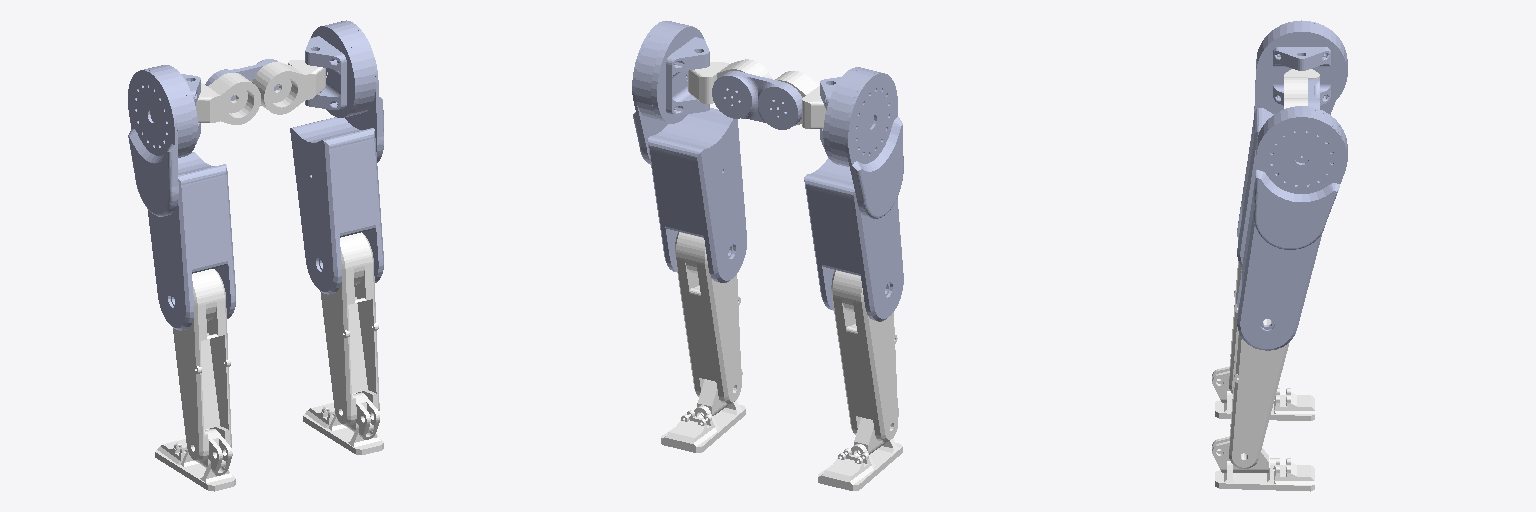
robot.urdf — platform-1-urdf:
<?xml version="1.0" encoding="utf-8"?>
<!-- This URDF was automatically created by SolidWorks to URDF Exporter! Originally created by [author] ([email redacted]) 
     Commit Version: 1.6.0-4-g7f85cfe  Build Version: 1.6.7995.38578
     For more information, please see http://wiki.ros.org/sw_urdf_exporter -->
<robot
  name="platform-1-urdf">
  <link
    name="base_link">
    <inertial>
      <origin
        xyz="1.87366287072413E-14 -0.00179506416880645 8.82598080998461E-06"
        rpy="0 0 0" />
      <mass
        value="0.172076781446164" />
      <inertia
        ixx="6.56966250127203E-05"
        ixy="-9.05222247925222E-21"
        ixz="-2.7655394126859E-10"
        iyy="0.000351145645808481"
        iyz="2.8099130371103E-14"
        izz="0.000296660273404923" />
    </inertial>
    <visual>
      <origin
        xyz="0 0 0"
        rpy="0 0 0" />
      <geometry>
        <mesh
          filename="package://platform-1-urdf/meshes/base_link.STL" />
      </geometry>
      <material
        name="">
        <color
          rgba="0.792156862745098 0.819607843137255 0.933333333333333 1" />
      </material>
    </visual>
    <collision>
      <origin
        xyz="0 0 0"
        rpy="0 0 0" />
      <geometry>
        <mesh
          filename="package://platform-1-urdf/meshes/base_link.STL" />
      </geometry>
    </collision>
  </link>
  <link
    name="right_hip_link">
    <inertial>
      <origin
        xyz="0.0312338500467596 -0.0269557851011357 8.81825816659884E-06"
        rpy="0 0 0" />
      <mass
        value="0.218746942434887" />
      <inertia
        ixx="0.000111242223188787"
        ixy="-3.50040811249981E-05"
        ixz="-3.44206099539943E-12"
        iyy="0.000322873601680704"
        iyz="3.92851149076219E-12"
        izz="0.000298130301089545" />
    </inertial>
    <visual>
      <origin
        xyz="0 0 0"
        rpy="0 0 0" />
      <geometry>
        <mesh
          filename="package://platform-1-urdf/meshes/right_hip_link.STL" />
      </geometry>
      <material
        name="">
        <color
          rgba="1 1 1 1" />
      </material>
    </visual>
    <collision>
      <origin
        xyz="0 0 0"
        rpy="0 0 0" />
      <geometry>
        <mesh
          filename="package://platform-1-urdf/meshes/right_hip_link.STL" />
      </geometry>
    </collision>
  </link>
  <joint
    name="Right Hip Joint"
    type="revolute">
    <origin
      xyz="0.04 0 0"
      rpy="0 0 0" />
    <parent
      link="base_link" />
    <child
      link="right_hip_link" />
    <axis
      xyz="0 1 0" />
    <limit
      lower="-1.57"
      upper="1.57"
      effort="25"
      velocity="100" />
  </joint>
  <link
    name="right_hip_swivel_link">
    <inertial>
      <origin
        xyz="0.026179011420427 7.75421393761633E-15 8.79190997261723E-06"
        rpy="0 0 0" />
      <mass
        value="0.347515284060988" />
      <inertia
        ixx="0.000760222748845959"
        ixy="-4.71970967575616E-16"
        ixz="2.00616432300055E-11"
        iyy="0.00043778973434596"
        iyz="-6.43254312041269E-11"
        izz="0.000366171194309917" />
    </inertial>
    <visual>
      <origin
        xyz="0 0 0"
        rpy="0 0 0" />
      <geometry>
        <mesh
          filename="package://platform-1-urdf/meshes/right_hip_swivel_link.STL" />
      </geometry>
      <material
        name="">
        <color
          rgba="0.792156862745098 0.819607843137255 0.933333333333333 1" />
      </material>
    </visual>
    <collision>
      <origin
        xyz="0 0 0"
        rpy="0 0 0" />
      <geometry>
        <mesh
          filename="package://platform-1-urdf/meshes/right_hip_swivel_link.STL" />
      </geometry>
    </collision>
  </link>
  <joint
    name="Right Hip Swivel Joint"
    type="revolute">
    <origin
      xyz="0.074427 -0.02134 0"
      rpy="0 0 0" />
    <parent
      link="right_hip_link" />
    <child
      link="right_hip_swivel_link" />
    <axis
      xyz="0 0 -1" />
    <limit
      lower="-1.57"
      upper="1.57"
      effort="25"
      velocity="100" />
  </joint>
  <link
    name="right_upper_leg_link">
    <inertial>
      <origin
        xyz="0.0348402920137008 -0.0263553666400808 -0.141434689298884"
        rpy="0 0 0" />
      <mass
        value="1.56276271190185" />
      <inertia
        ixx="0.00874757897418537"
        ixy="-7.02435999358329E-05"
        ixz="-0.000376977227239328"
        iyy="0.00677819253597887"
        iyz="-0.000753330087848866"
        izz="0.00287562590565611" />
    </inertial>
    <visual>
      <origin
        xyz="0 0 0"
        rpy="0 0 0" />
      <geometry>
        <mesh
          filename="package://platform-1-urdf/meshes/right_upper_leg_link.STL" />
      </geometry>
      <material
        name="">
        <color
          rgba="0.792156862745098 0.819607843137255 0.933333333333333 1" />
      </material>
    </visual>
    <collision>
      <origin
        xyz="0 0 0"
        rpy="0 0 0" />
      <geometry>
        <mesh
          filename="package://platform-1-urdf/meshes/right_upper_leg_link.STL" />
      </geometry>
    </collision>
  </link>
  <joint
    name="Right Upper Leg Joint"
    type="revolute">
    <origin
      xyz="0 0 0"
      rpy="0 0 0" />
    <parent
      link="right_hip_swivel_link" />
    <child
      link="right_upper_leg_link" />
    <axis
      xyz="1 0 0" />
    <limit
      lower="-1.57"
      upper="1.57"
      effort="25"
      velocity="100" />
  </joint>
  <link
    name="right_lower_leg_link">
    <inertial>
      <origin
        xyz="0.0220000000782792 0.00456596345783578 -0.0813370922335395"
        rpy="0 0 0" />
      <mass
        value="0.848373595704519" />
      <inertia
        ixx="0.00672506155795486"
        ixy="2.30279220574956E-12"
        ixz="2.42591504272229E-12"
        iyy="0.00664011713487416"
        iyz="0.000212673883646662"
        izz="0.000706215505123794" />
    </inertial>
    <visual>
      <origin
        xyz="0 0 0"
        rpy="0 0 0" />
      <geometry>
        <mesh
          filename="package://platform-1-urdf/meshes/right_lower_leg_link.STL" />
      </geometry>
      <material
        name="">
        <color
          rgba="1 1 1 1" />
      </material>
    </visual>
    <collision>
      <origin
        xyz="0 0 0"
        rpy="0 0 0" />
      <geometry>
        <mesh
          filename="package://platform-1-urdf/meshes/right_lower_leg_link.STL" />
      </geometry>
    </collision>
  </link>
  <joint
    name="Right Lower Leg Joint"
    type="revolute">
    <origin
      xyz="0 -0.056414 -0.30275"
      rpy="-0.15372 0 0" />
    <parent
      link="right_upper_leg_link" />
    <child
      link="right_lower_leg_link" />
    <axis
      xyz="-1 0 0" />
    <limit
      lower="-1.57"
      upper="1.57"
      effort="25"
      velocity="100" />
  </joint>
  <link
    name="right_ankle_link">
    <inertial>
      <origin
        xyz="0.0125000293285679 -0.00246190454829391 -0.010269641525856"
        rpy="0 0 0" />
      <mass
        value="0.0868207809581255" />
      <inertia
        ixx="6.58227966480361E-05"
        ixy="7.66796652557329E-11"
        ixz="3.06082970006109E-11"
        iyy="2.79658938559025E-05"
        iyz="5.7212834484298E-06"
        izz="4.77582065457539E-05" />
    </inertial>
    <visual>
      <origin
        xyz="0 0 0"
        rpy="0 0 0" />
      <geometry>
        <mesh
          filename="package://platform-1-urdf/meshes/right_ankle_link.STL" />
      </geometry>
      <material
        name="">
        <color
          rgba="1 1 1 1" />
      </material>
    </visual>
    <collision>
      <origin
        xyz="0 0 0"
        rpy="0 0 0" />
      <geometry>
        <mesh
          filename="package://platform-1-urdf/meshes/right_ankle_link.STL" />
      </geometry>
    </collision>
  </link>
  <joint
    name="Right Ankle"
    type="revolute">
    <origin
      xyz="0.0095 0 -0.25"
      rpy="0.15372 0 0" />
    <parent
      link="right_lower_leg_link" />
    <child
      link="right_ankle_link" />
    <axis
      xyz="-1 0 0" />
    <limit
      lower="-1.57"
      upper="1.57"
      effort="25"
      velocity="100" />
  </joint>
  <link
    name="right_foot">
    <inertial>
      <origin
        xyz="1.86822849648771E-06 0.0457950081163243 -0.0200724464504474"
        rpy="0 0 0" />
      <mass
        value="0.162517837389381" />
      <inertia
        ixx="0.000346865868444993"
        ixy="-8.62701734003375E-09"
        ixz="6.78704090410348E-09"
        iyy="5.41447950521625E-05"
        iyz="-3.90032892638468E-06"
        izz="0.000380328012813706" />
    </inertial>
    <visual>
      <origin
        xyz="0 0 0"
        rpy="0 0 0" />
      <geometry>
        <mesh
          filename="package://platform-1-urdf/meshes/right_foot.STL" />
      </geometry>
      <material
        name="">
        <color
          rgba="1 1 1 1" />
      </material>
    </visual>
    <collision>
      <origin
        xyz="0 0 0"
        rpy="0 0 0" />
      <geometry>
        <mesh
          filename="package://platform-1-urdf/meshes/right_foot.STL" />
      </geometry>
    </collision>
  </link>
  <joint
    name="Right Foot"
    type="revolute">
    <origin
      xyz="0.0125 0 -0.03"
      rpy="0 0 0" />
    <parent
      link="right_ankle_link" />
    <child
      link="right_foot" />
    <axis
      xyz="0 1 0" />
    <limit
      lower="-3.14"
      upper="3.14"
      effort="25"
      velocity="100" />
  </joint>
  <link
    name="left_hip_link">
    <inertial>
      <origin
        xyz="-0.0312338500445707 -0.0269557851035351 8.83381273877186E-06"
        rpy="0 0 0" />
      <mass
        value="0.218746942434901" />
      <inertia
        ixx="0.000111242188532273"
        ixy="3.50041183445646E-05"
        ixz="-3.43060020629386E-12"
        iyy="0.000322873670433245"
        iyz="-3.94137140927574E-12"
        izz="0.000298130537004761" />
    </inertial>
    <visual>
      <origin
        xyz="0 0 0"
        rpy="0 0 0" />
      <geometry>
        <mesh
          filename="package://platform-1-urdf/meshes/left_hip_link.STL" />
      </geometry>
      <material
        name="">
        <color
          rgba="1 1 1 1" />
      </material>
    </visual>
    <collision>
      <origin
        xyz="0 0 0"
        rpy="0 0 0" />
      <geometry>
        <mesh
          filename="package://platform-1-urdf/meshes/left_hip_link.STL" />
      </geometry>
    </collision>
  </link>
  <joint
    name="Left Hip Joint"
    type="revolute">
    <origin
      xyz="-0.04 0 0"
      rpy="0 0 0" />
    <parent
      link="base_link" />
    <child
      link="left_hip_link" />
    <axis
      xyz="0 1 0" />
    <limit
      lower="-1.57"
      upper="1.57"
      effort="25"
      velocity="100" />
  </joint>
  <link
    name="left_hip_swivel_link">
    <inertial>
      <origin
        xyz="-0.026179011420427 -7.77850006628E-15 8.79199407935082E-06"
        rpy="0 0 0" />
      <mass
        value="0.347515284060989" />
      <inertia
        ixx="0.000760222748845962"
        ixy="-4.7192236305285E-16"
        ixz="-2.00617297058978E-11"
        iyy="0.000437789734345962"
        iyz="6.43254311745432E-11"
        izz="0.000366171194309919" />
    </inertial>
    <visual>
      <origin
        xyz="0 0 0"
        rpy="0 0 0" />
      <geometry>
        <mesh
          filename="package://platform-1-urdf/meshes/left_hip_swivel_link.STL" />
      </geometry>
      <material
        name="">
        <color
          rgba="0.792156862745098 0.819607843137255 0.933333333333333 1" />
      </material>
    </visual>
    <collision>
      <origin
        xyz="0 0 0"
        rpy="0 0 0" />
      <geometry>
        <mesh
          filename="package://platform-1-urdf/meshes/left_hip_swivel_link.STL" />
      </geometry>
    </collision>
  </link>
  <joint
    name="Left Hip Swivel Joint"
    type="revolute">
    <origin
      xyz="-0.074427 -0.02134 0"
      rpy="0 0 0" />
    <parent
      link="left_hip_link" />
    <child
      link="left_hip_swivel_link" />
    <axis
      xyz="0 0 -1" />
    <limit
      lower="-1.57"
      upper="1.57"
      effort="25"
      velocity="100" />
  </joint>
  <link
    name="left_upper_leg_link">
    <inertial>
      <origin
        xyz="-0.0348402910776952 -0.0263554086588937 -0.141434680541551"
        rpy="0 0 0" />
      <mass
        value="1.56276272194335" />
      <inertia
        ixx="0.00874757897447828"
        ixy="7.02419563333352E-05"
        ixz="0.000376977541338041"
        iyy="0.00677819497868202"
        iyz="-0.000753324590181511"
        izz="0.00287562348702888" />
    </inertial>
    <visual>
      <origin
        xyz="0 0 0"
        rpy="0 0 0" />
      <geometry>
        <mesh
          filename="package://platform-1-urdf/meshes/left_upper_leg_link.STL" />
      </geometry>
      <material
        name="">
        <color
          rgba="0.792156862745098 0.819607843137255 0.933333333333333 1" />
      </material>
    </visual>
    <collision>
      <origin
        xyz="0 0 0"
        rpy="0 0 0" />
      <geometry>
        <mesh
          filename="package://platform-1-urdf/meshes/left_upper_leg_link.STL" />
      </geometry>
    </collision>
  </link>
  <joint
    name="Left Upper Leg Joint"
    type="revolute">
    <origin
      xyz="0 0 0"
      rpy="0 0 0" />
    <parent
      link="left_hip_swivel_link" />
    <child
      link="left_upper_leg_link" />
    <axis
      xyz="-1 0 0" />
    <limit
      lower="-1.57"
      upper="1.57"
      effort="25"
      velocity="100" />
  </joint>
  <link
    name="left_lower_leg_link">
    <inertial>
      <origin
        xyz="-0.0209999999217206 0.00456596345791519 -0.0813370922334818"
        rpy="0 0 0" />
      <mass
        value="0.848373595704519" />
      <inertia
        ixx="0.00672506155795486"
        ixy="2.30279243176542E-12"
        ixz="2.42590978655892E-12"
        iyy="0.00664011713487461"
        iyz="0.000212673883640369"
        izz="0.000706215505123342" />
    </inertial>
    <visual>
      <origin
        xyz="0 0 0"
        rpy="0 0 0" />
      <geometry>
        <mesh
          filename="package://platform-1-urdf/meshes/left_lower_leg_link.STL" />
      </geometry>
      <material
        name="">
        <color
          rgba="1 1 1 1" />
      </material>
    </visual>
    <collision>
      <origin
        xyz="0 0 0"
        rpy="0 0 0" />
      <geometry>
        <mesh
          filename="package://platform-1-urdf/meshes/left_lower_leg_link.STL" />
      </geometry>
    </collision>
  </link>
  <joint
    name="Left Lower Leg Joint"
    type="revolute">
    <origin
      xyz="0 -0.056414 -0.30275"
      rpy="-0.15372 0 0" />
    <parent
      link="left_upper_leg_link" />
    <child
      link="left_lower_leg_link" />
    <axis
      xyz="-1 0 0" />
    <limit
      lower="-1.57"
      upper="1.57"
      effort="25"
      velocity="100" />
  </joint>
  <link
    name="left_ankle_link">
    <inertial>
      <origin
        xyz="-0.0124999707080538 -0.00246190487655693 -0.0102696414917176"
        rpy="0 0 0" />
      <mass
        value="0.0868207809581255" />
      <inertia
        ixx="6.58227966480384E-05"
        ixy="7.61167526463498E-11"
        ixz="3.06933685270043E-11"
        iyy="2.79658940145574E-05"
        iyz="5.72128372286002E-06"
        izz="4.77582063870967E-05" />
    </inertial>
    <visual>
      <origin
        xyz="0 0 0"
        rpy="0 0 0" />
      <geometry>
        <mesh
          filename="package://platform-1-urdf/meshes/left_ankle_link.STL" />
      </geometry>
      <material
        name="">
        <color
          rgba="1 1 1 1" />
      </material>
    </visual>
    <collision>
      <origin
        xyz="0 0 0"
        rpy="0 0 0" />
      <geometry>
        <mesh
          filename="package://platform-1-urdf/meshes/left_ankle_link.STL" />
      </geometry>
    </collision>
  </link>
  <joint
    name="Left Ankle"
    type="revolute">
    <origin
      xyz="-0.0085 0 -0.25"
      rpy="0.15372 0 0" />
    <parent
      link="left_lower_leg_link" />
    <child
      link="left_ankle_link" />
    <axis
      xyz="-1 0 0" />
    <limit
      lower="-1.57"
      upper="1.57"
      effort="25"
      velocity="100" />
  </joint>
  <link
    name="left_foot">
    <inertial>
      <origin
        xyz="1.86822373313134E-06 0.0457950081162976 -0.0200724464514711"
        rpy="0 0 0" />
      <mass
        value="0.162517837389381" />
      <inertia
        ixx="0.00034686586844499"
        ixy="-8.62701734002997E-09"
        ixz="6.78704090416956E-09"
        iyy="5.41447950521598E-05"
        iyz="-3.90032892638468E-06"
        izz="0.000380328012813706" />
    </inertial>
    <visual>
      <origin
        xyz="0 0 0"
        rpy="0 0 0" />
      <geometry>
        <mesh
          filename="package://platform-1-urdf/meshes/left_foot.STL" />
      </geometry>
      <material
        name="">
        <color
          rgba="1 1 1 1" />
      </material>
    </visual>
    <collision>
      <origin
        xyz="0 0 0"
        rpy="0 0 0" />
      <geometry>
        <mesh
          filename="package://platform-1-urdf/meshes/left_foot.STL" />
      </geometry>
    </collision>
  </link>
  <joint
    name="Left Foot"
    type="revolute">
    <origin
      xyz="-0.0125 0 -0.03"
      rpy="0 0 0" />
    <parent
      link="left_ankle_link" />
    <child
      link="left_foot" />
    <axis
      xyz="0 1 0" />
    <limit
      lower="-3.14"
      upper="3.14"
      effort="25"
      velocity="100" />
  </joint>
</robot>

--- Render facts (derived) ---
Views: 3 orthographic renders of the robot side by side, from view 1: azimuth 30°, elevation 25°; view 2: azimuth 150°, elevation 25°; view 3: azimuth 270°, elevation 25°.
Robot: platform-1-urdf — 13 links, 12 joints (12 revolute); root link base_link; default pose: every joint at zero.
Links seen in each view (by area): view 1: left_upper_leg_link, right_upper_leg_link, left_lower_leg_link, right_lower_leg_link, right_hip_swivel_link, right_hip_link, left_hip_link, right_foot, left_foot, left_ankle_link, right_ankle_link, left_hip_swivel_link (+1 smaller); view 2: left_upper_leg_link, right_upper_leg_link, right_lower_leg_link, left_lower_leg_link, right_hip_swivel_link, base_link, right_foot, left_foot, right_hip_link, left_hip_link, left_hip_swivel_link, left_ankle_link (+1 smaller); view 3: right_upper_leg_link, right_lower_leg_link, left_hip_swivel_link, left_upper_leg_link, right_foot, left_foot, right_ankle_link, left_hip_link, left_lower_leg_link.
Link boxes in pixels (x1,y1,x2,y2): left_upper_leg_link: [128, 66, 235, 330]; right_upper_leg_link: [290, 20, 383, 294]; left_lower_leg_link: [173, 269, 231, 462]; right_lower_leg_link: [320, 232, 379, 425]; right_hip_swivel_link: [305, 25, 360, 117]; right_hip_link: [252, 60, 325, 114]; left_hip_link: [196, 73, 260, 124]; right_foot: [303, 403, 383, 454]; left_foot: [155, 439, 235, 491]; left_ankle_link: [199, 429, 232, 475]; right_ankle_link: [346, 392, 379, 439]; left_hip_swivel_link: [161, 65, 200, 157]; left_upper_leg_link: [804, 69, 903, 321]; right_upper_leg_link: [632, 21, 746, 282]; right_lower_leg_link: [675, 232, 741, 403]; left_lower_leg_link: [831, 270, 897, 442]; right_hip_swivel_link: [651, 25, 709, 123]; base_link: [712, 71, 801, 129]; right_foot: [661, 400, 745, 452]; left_foot: [818, 439, 902, 490]; right_hip_link: [688, 59, 771, 103]; left_hip_link: [775, 71, 825, 128]; left_hip_swivel_link: [820, 67, 864, 164]; left_ankle_link: [854, 408, 898, 454]; right_upper_leg_link: [1237, 109, 1347, 350]; right_lower_leg_link: [1229, 319, 1289, 468]; left_hip_swivel_link: [1256, 29, 1347, 109]; left_upper_leg_link: [1237, 20, 1347, 266]; right_foot: [1215, 458, 1314, 491]; left_foot: [1215, 388, 1314, 420]; right_ankle_link: [1212, 436, 1268, 472]; left_hip_link: [1284, 69, 1319, 97]; left_lower_leg_link: [1229, 261, 1241, 393].
Size in the robot's own frame: 0.3949 by 0.2221 by 0.6848 metres.
13 mesh visuals loaded from 13 distinct referenced files (13 binary STL).